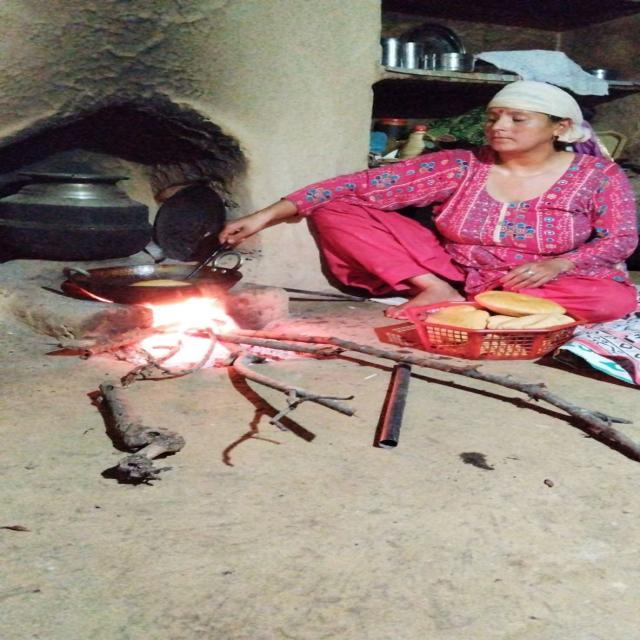fire: (139, 297, 241, 368)
